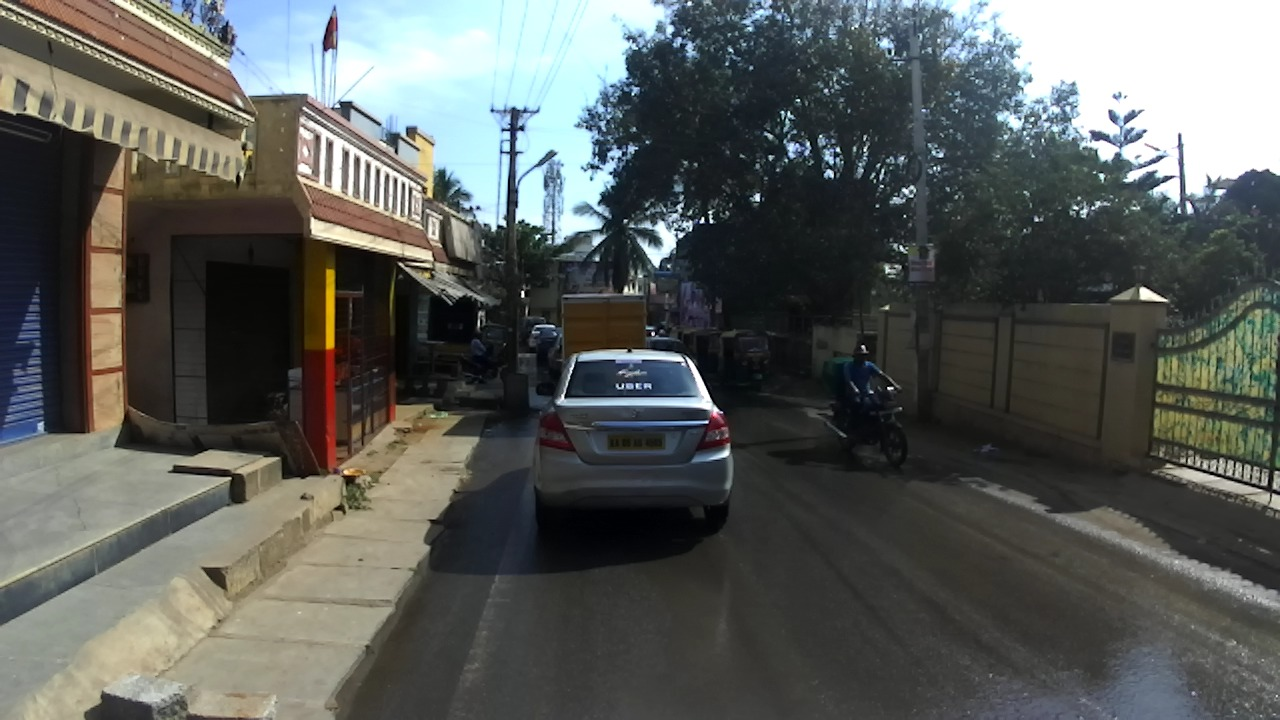autorickshaw: (718, 329, 772, 395), (681, 328, 724, 380), (479, 323, 511, 366), (669, 327, 690, 340)
car: (533, 348, 734, 533), (646, 337, 698, 370), (534, 327, 562, 370), (528, 324, 556, 353), (546, 334, 563, 380), (523, 315, 547, 346), (645, 324, 660, 338)
motorcycle: (822, 386, 909, 469), (459, 343, 507, 385)
rider: (844, 344, 902, 447), (472, 330, 492, 383), (657, 329, 667, 338)
truck: (560, 292, 647, 365), (425, 293, 477, 364)
